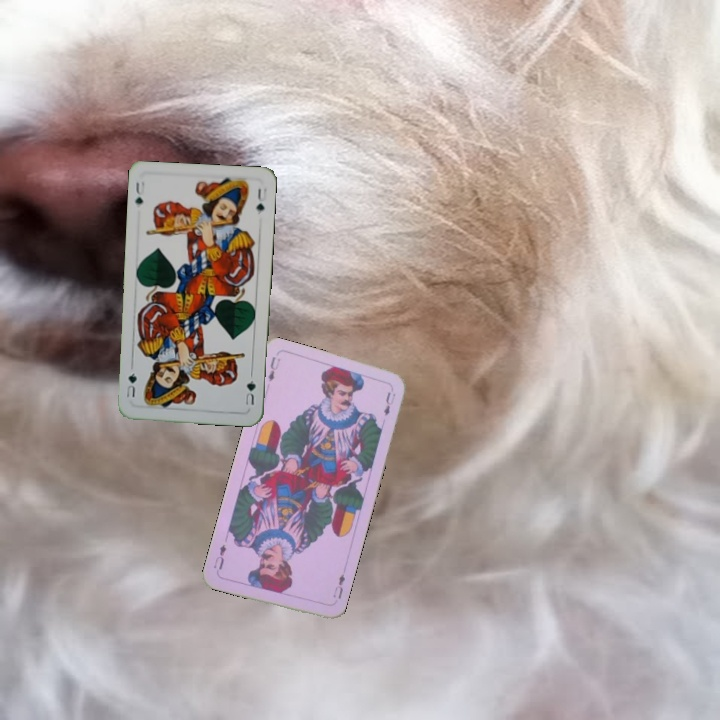EU: (264, 353, 283, 384), (329, 570, 347, 601)
GU: (241, 376, 258, 408), (131, 177, 147, 207)
